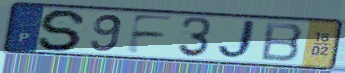3: (177, 16, 214, 59)
9: (89, 13, 123, 52)
B: (259, 21, 307, 63)
F: (124, 13, 178, 56)
J: (216, 19, 263, 61)
S: (36, 8, 90, 52)
